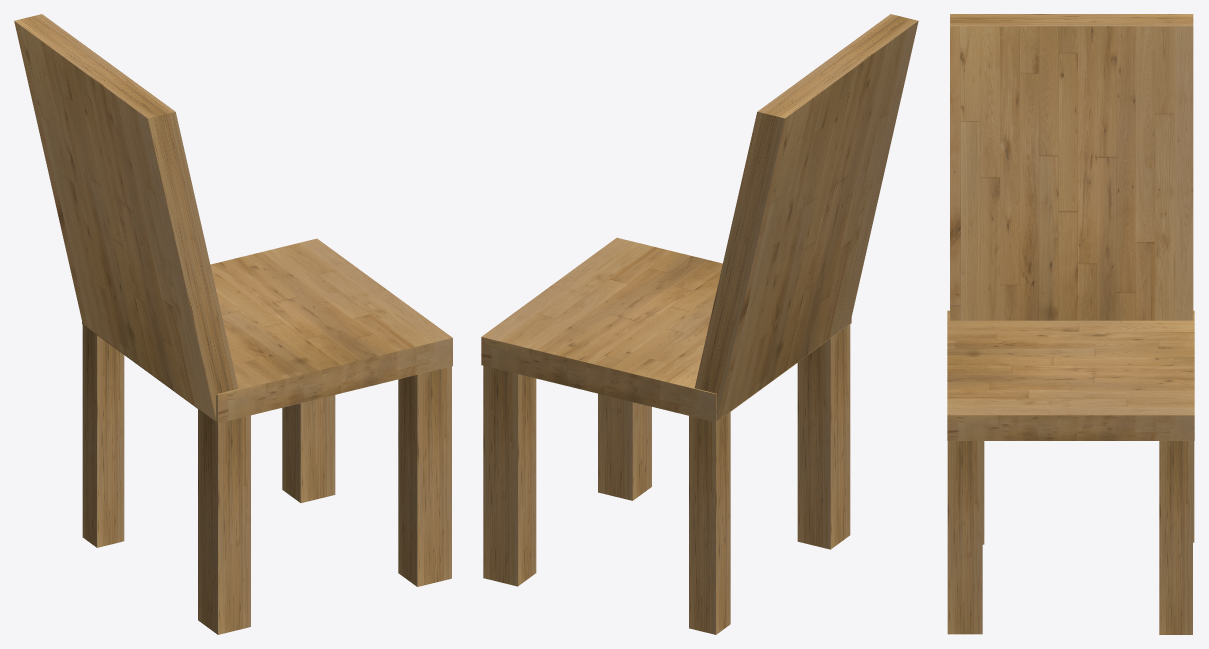
Rendered from ChairB.FBX.
The picture shows the model from 3 angles, left to right: view 1: azimuth 30°, elevation 25°; view 2: azimuth 150°, elevation 25°; view 3: azimuth 270°, elevation 25°; orthographic projection. The views are drawn at different scales.
Parts seen in each view (by area): view 1: Box002, Box001, Box007, Box003, Box008, Box009; view 2: Box002, Box001, Box009, Box003, Box008, Box007; view 3: Box002, Box001, Box007, Box009.
Part boxes in pixels (x1,y1,x2,y2): Box002: (14, 14, 238, 421); Box001: (82, 238, 452, 423); Box007: (398, 366, 451, 586); Box003: (198, 409, 250, 634); Box008: (82, 325, 124, 547); Box009: (282, 395, 335, 502); Box002: (695, 14, 918, 420); Box001: (481, 237, 851, 422); Box009: (483, 365, 536, 586); Box003: (797, 324, 850, 549); Box008: (689, 412, 730, 634); Box007: (598, 393, 651, 500); Box002: (950, 14, 1193, 320); Box001: (947, 310, 1194, 440); Box007: (947, 441, 982, 634); Box009: (1159, 441, 1192, 634).
Size of the model in its own units: 48.56 by 81.61 by 37.59.
Materials: 6 (6 with a texture image).
